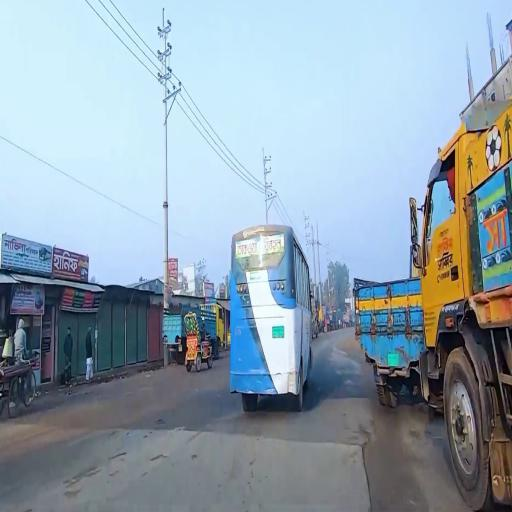bus: (233, 222, 315, 412)
rickshaw: (186, 313, 213, 373)
truck: (410, 119, 512, 512), (352, 270, 427, 409), (163, 302, 226, 362)
